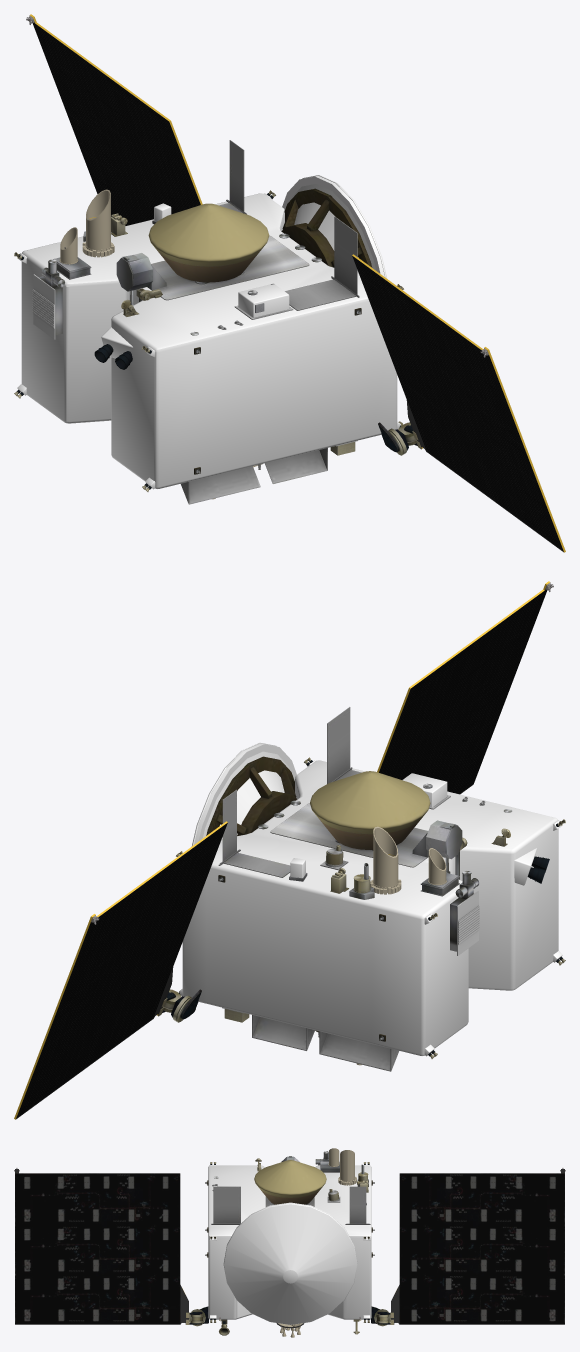
Rendered from osiris-rex.glb.
3 renders of one model, top to bottom at view 1: azimuth 30°, elevation 25°; view 2: azimuth 150°, elevation 25°; view 3: azimuth 270°, elevation 25°, orthographic. The views are drawn at different scales.
Parts seen in each view (by area): view 1: BUS, Array_Right, Array_Left, dunno, heatshield, Bus_plate_mounting, HGA_frame, HGA, Ovirs, polycam_big, instrument4, polycam_small (+2 smaller); view 2: BUS, Array_Left, Array_Right, dunno, heatshield, HGA_frame, Bus_plate_mounting, Ovirs, HGA, polycam_big, HGA.001, polycam_small (+2 smaller); view 3: Array_Left, Array_Right, HGA.001, BUS, heatshield, dunno, polycam_big, polycam_small.
Part boxes in pixels (x1,y1,x2,y2): BUS: (17, 193, 400, 489); Array_Right: (352, 254, 565, 552); Array_Left: (29, 14, 202, 225); dunno: (181, 140, 359, 504); heatshield: (148, 203, 269, 282); Bus_plate_mounting: (147, 235, 309, 300); HGA_frame: (281, 188, 372, 267); HGA: (282, 175, 386, 277); Ovirs: (32, 259, 65, 339); polycam_big: (82, 189, 114, 257); instrument4: (234, 283, 293, 319); polycam_small: (53, 227, 91, 279); BUS: (179, 760, 562, 1056); Array_Left: (14, 821, 227, 1119); Array_Right: (377, 581, 550, 794); dunno: (218, 707, 398, 1071); heatshield: (310, 771, 430, 849); HGA_frame: (206, 756, 297, 835); Bus_plate_mounting: (270, 803, 428, 867); Ovirs: (450, 871, 479, 955); HGA: (192, 742, 296, 845); polycam_big: (370, 826, 401, 894); HGA.001: (191, 750, 284, 846); polycam_small: (420, 848, 459, 896); Array_Left: (391, 1169, 564, 1324); Array_Right: (15, 1169, 188, 1324); HGA.001: (223, 1203, 357, 1324); BUS: (208, 1165, 371, 1319); heatshield: (254, 1160, 326, 1204); dunno: (211, 1186, 370, 1321); polycam_big: (338, 1150, 356, 1185); polycam_small: (320, 1148, 339, 1172).
Bounding box in the file's own units: 2.47 × 2.23 × 6.22.
Materials: 8 (2 with a texture image).
